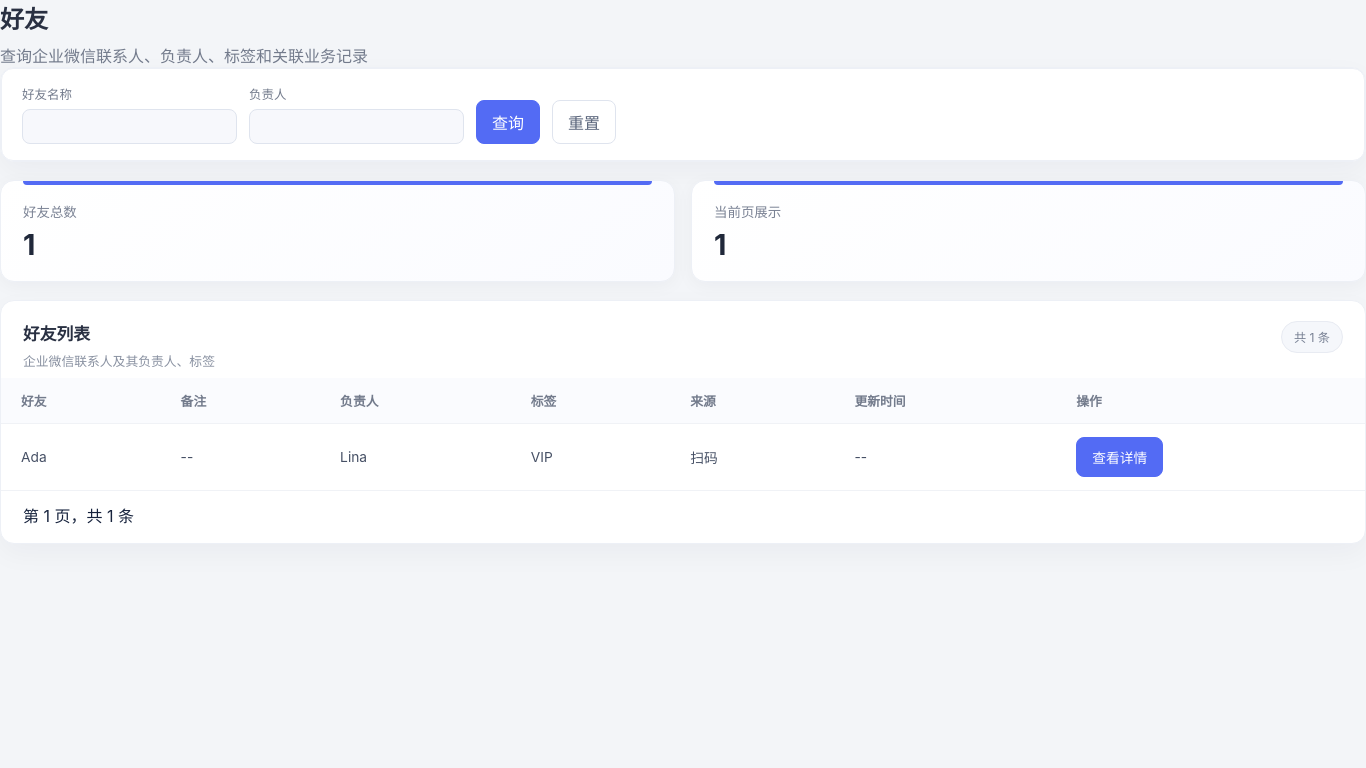
it: filters friends and opens real detail
This screenshot has width=1366, height=768.
Expected: the text "Ada" is shown, [1, 423, 161, 490]
Click the button with aria-label "查看 Ada".
click(1120, 457)  # box [1076, 437, 1163, 477]
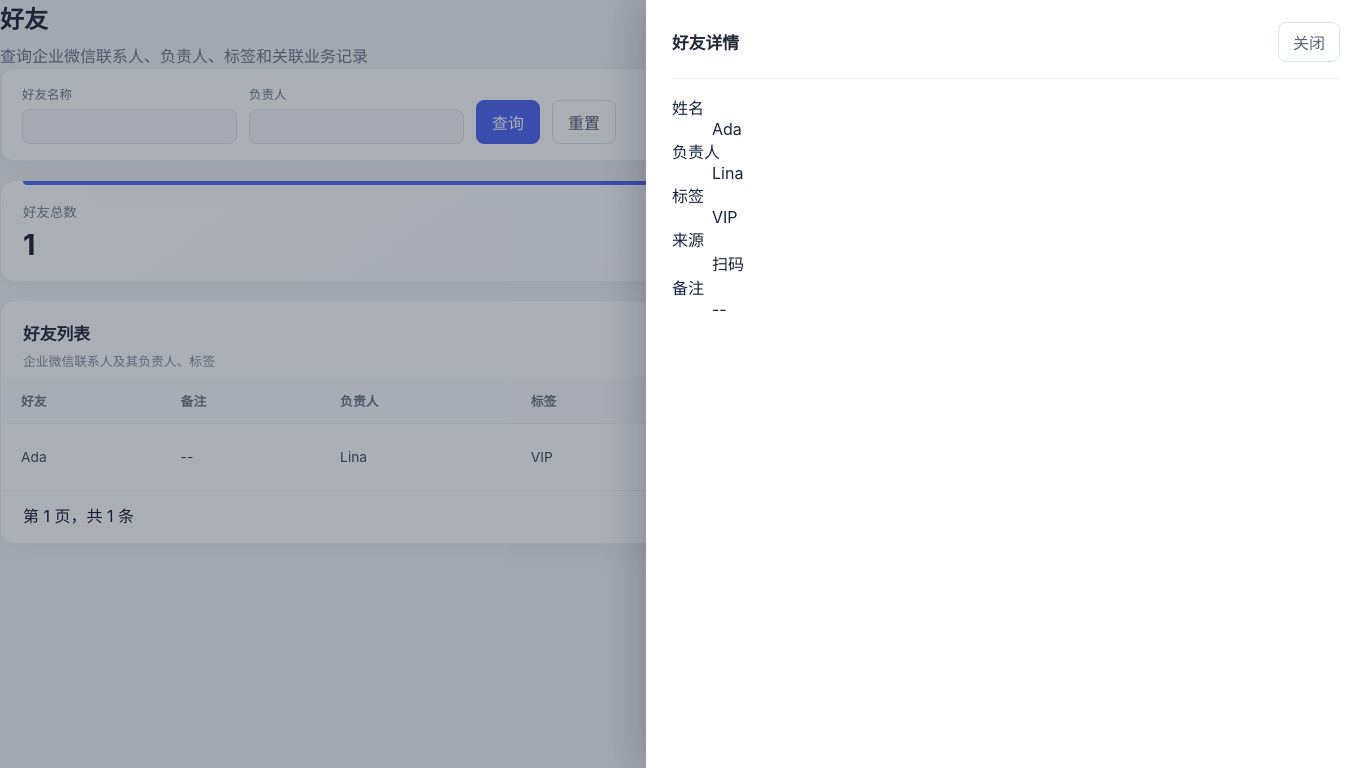
Result: the dialog "好友详情" is shown at [646, 0, 1365, 767]
